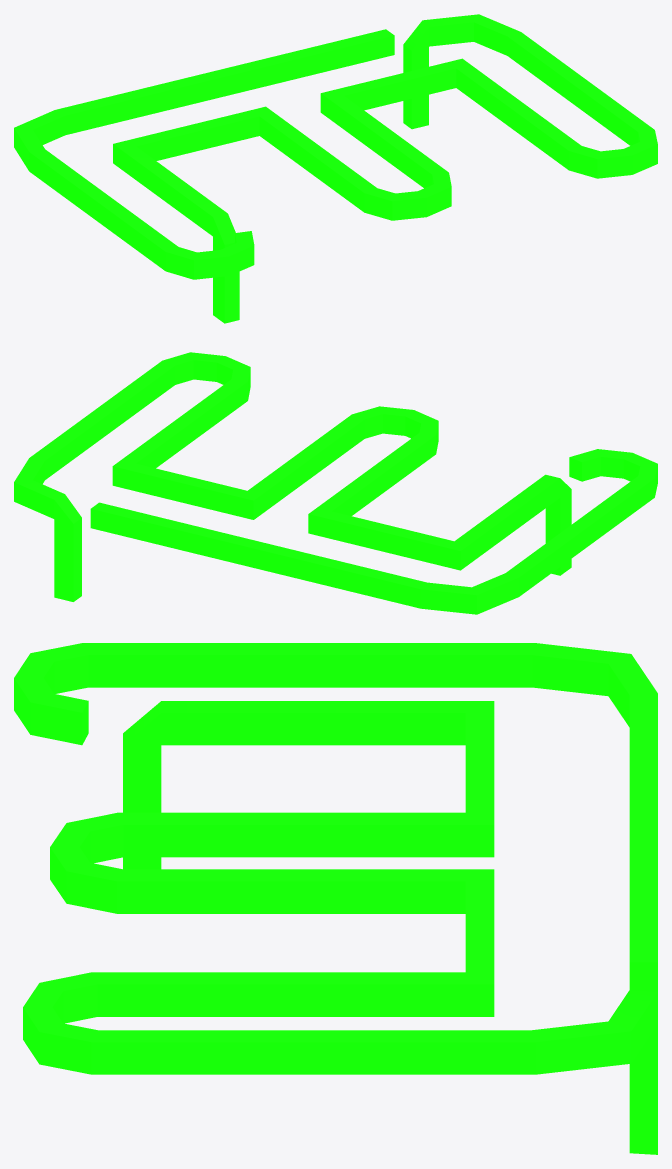
The model's file is Alphabet_3D_04_E.FBX.
3 views of the same model, one above another, from view 1: azimuth 30°, elevation 25°; view 2: azimuth 150°, elevation 25°; view 3: azimuth 270°, elevation 25° (orthographic). The views are drawn at different scales.
Visible parts, largest first — view 1: Alphabet_3D_04_E; view 2: Alphabet_3D_04_E; view 3: Alphabet_3D_04_E.
Part boxes in pixels (x1,y1,x2,y2): Alphabet_3D_04_E: (14, 14, 657, 323); Alphabet_3D_04_E: (14, 352, 657, 614); Alphabet_3D_04_E: (14, 643, 657, 1154).
Bounding box in the file's own units: 66.3 × 12.63 × 45.21.
